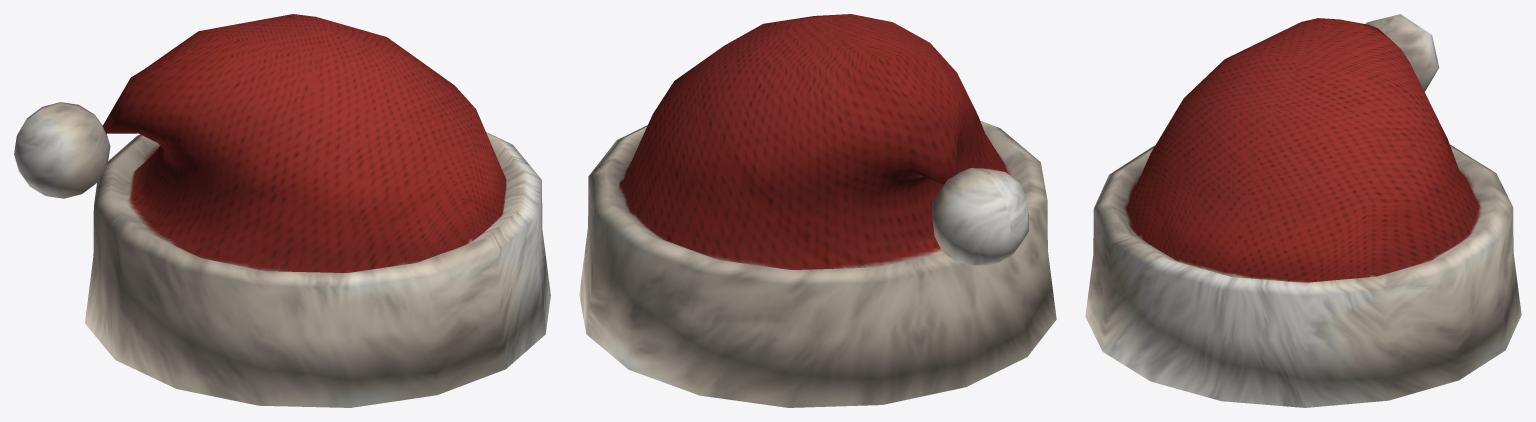
Rendered from SM_SantahatA.FBX.
The picture shows the model from 3 angles, left to right: view 1: azimuth 30°, elevation 25°; view 2: azimuth 150°, elevation 25°; view 3: azimuth 270°, elevation 25°; orthographic projection. The views are drawn at different scales.
Parts seen in each view (by area): view 1: SM_SantahatA; view 2: SM_SantahatA; view 3: SM_SantahatA.
Part boxes in pixels (x1=…): SM_SantahatA: x1=14, y1=14, x2=550, y2=407; SM_SantahatA: x1=579, y1=14, x2=1056, y2=407; SM_SantahatA: x1=1085, y1=14, x2=1521, y2=407.
Bounding box in the file's own units: 53.37 × 48.04 × 31.39.
